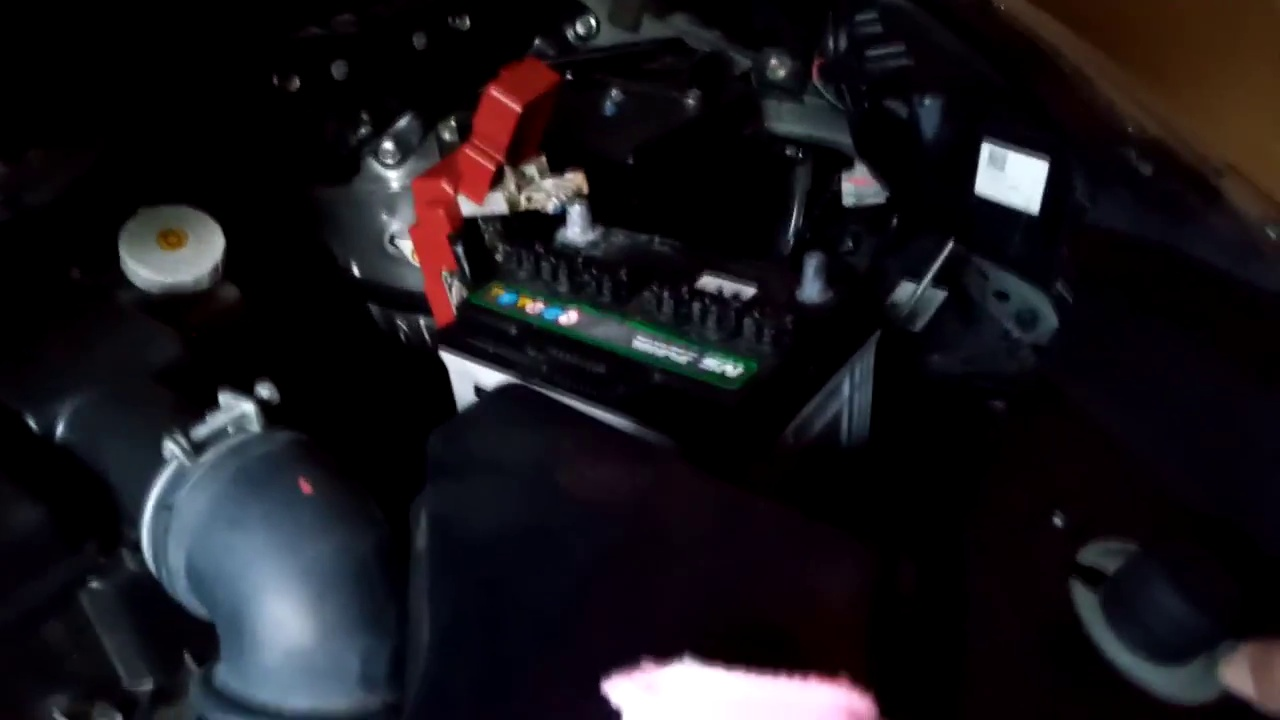battery: (454, 207, 878, 431)
neg_disconnected: (760, 217, 865, 327)
pos_disconnected: (359, 97, 618, 313)
